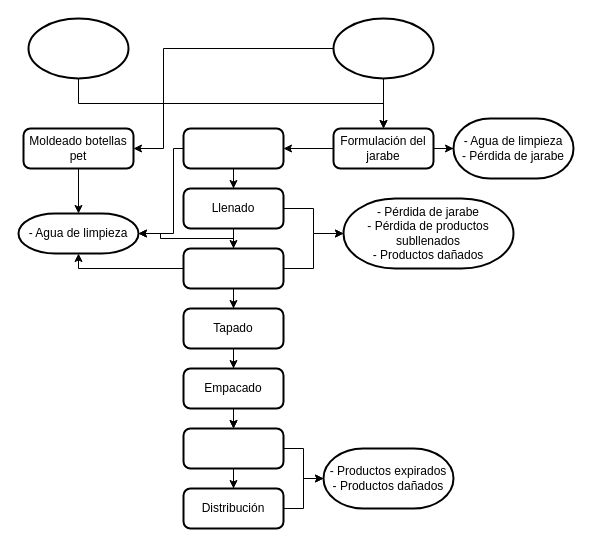
The diagram is 591 pixels wide and 546 high, and some of its shapes have lost their labels. Here are the shapes that lost their labels. From the top down, the centre of each, then its label:
At (x=78, y=48): "Materia prima".
At (x=383, y=48): "Agua".
At (x=233, y=148): "Pasteurización".
At (x=233, y=268): "Inyección CO2".
At (x=233, y=448): "Almacenamiento".
